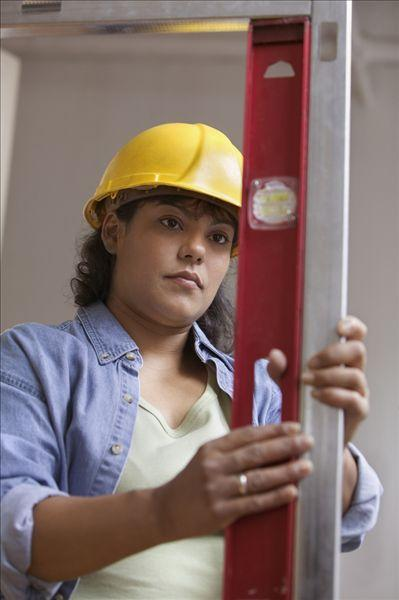helmet: (85, 121, 247, 235)
